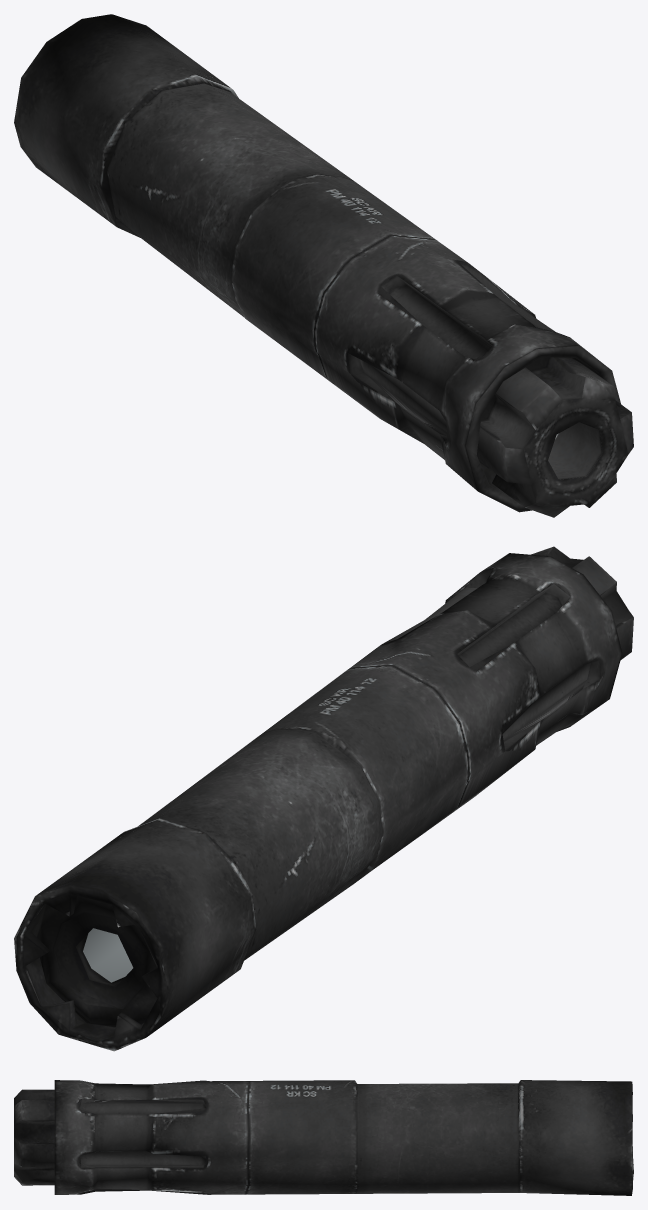
File: SuppressorPistol.fbx
The picture shows the model from 3 angles, top to bottom: view 1: azimuth 30°, elevation 25°; view 2: azimuth 150°, elevation 25°; view 3: azimuth 270°, elevation 25°; orthographic projection. The views are drawn at different scales.
Parts seen in each view (by area): view 1: ReducedSuppressor; view 2: ReducedSuppressor; view 3: ReducedSuppressor.
Part boxes in pixels (x1,y1,x2,y2): ReducedSuppressor: (14,14,633,517); ReducedSuppressor: (14,546,633,1051); ReducedSuppressor: (14,1080,633,1195).
Bounding box in the file's own units: 0.0171 × 0.0171 × 0.0917.
